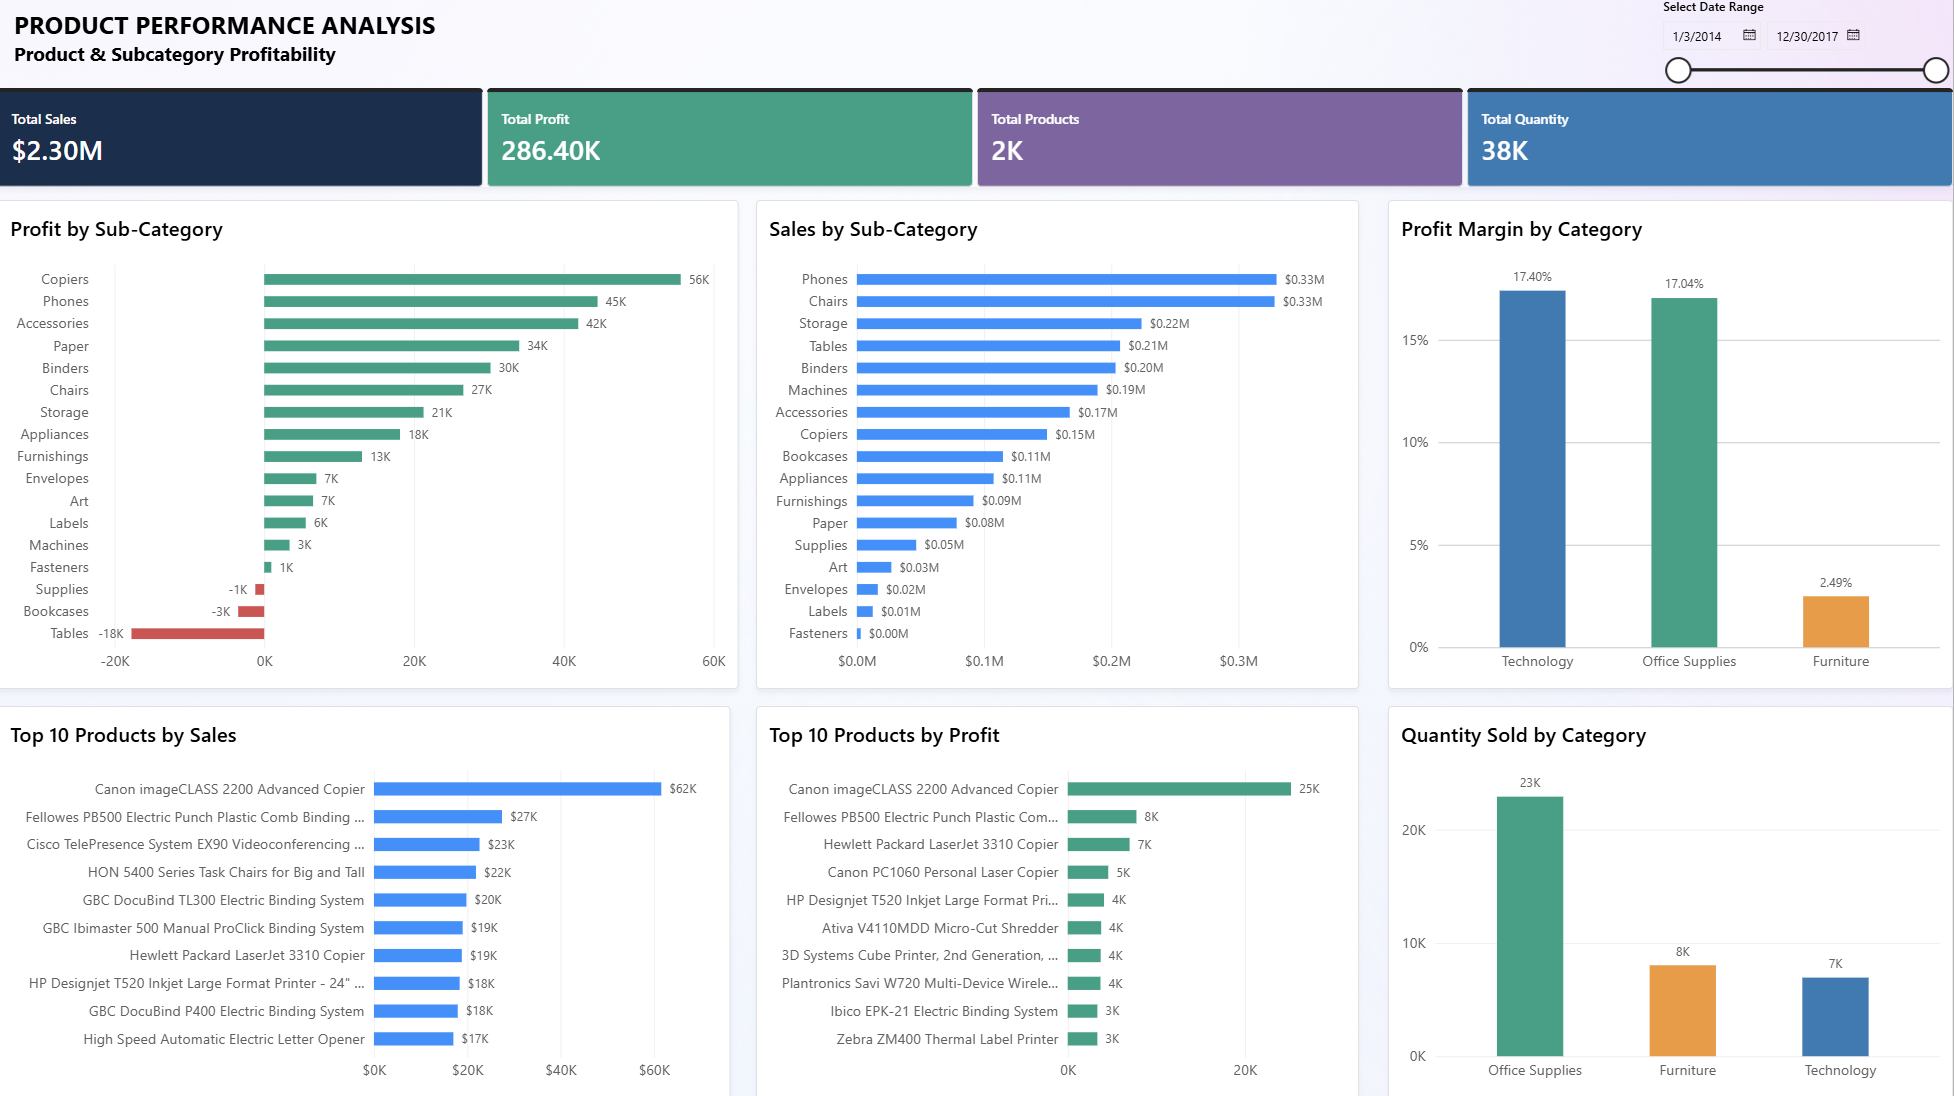

What the dashboard file says about the page in this screenshot:
{"tool":"powerbi","page":{"name":"Page 2","canvas":[1920,1080],"ordinal":1},"visuals":[{"type":"textbox","box":[16.7,9.8,678.3,70.7],"z":0},{"type":"clusteredBarChart","title":"Profit by Sub-Category","fields":{"Category":["stg_superstore.sub_category"],"Y":["stg_superstore.Total Profit"]},"box":[0,198.3,728.3,480],"z":1000},{"type":"clusteredBarChart","title":"Sales by Sub-Category","fields":{"Category":["stg_superstore.sub_category"],"Y":["stg_superstore.Total Sales"]},"box":[745,198.3,591.9,480],"z":2000},{"type":"clusteredColumnChart","title":"Profit Margin by Category","fields":{"Category":["stg_superstore.category"],"Y":["stg_superstore.Profit Margin (%)"]},"box":[1365.4,198.3,554.6,480],"z":3000},{"type":"clusteredBarChart","title":"Top 10 Products by Sales","fields":{"Category":["stg_superstore.product_name"],"Y":["stg_superstore.Total Sales"]},"box":[0,695,719.5,384.8],"z":4000},{"type":"clusteredBarChart","title":"Top 10 Products by Profit","fields":{"Category":["stg_superstore.product_name"],"Y":["stg_superstore.Total Profit"]},"box":[745,695,591.9,384.8],"z":5000},{"type":"clusteredColumnChart","title":"Quantity Sold by Category","fields":{"Category":["stg_superstore.category"],"Y":["stg_superstore.Total Quantity"]},"box":[1365.4,695,554.6,384.8],"z":6000},{"type":"slicer","fields":{"Values":["stg_superstore.order_date"]},"box":[1627.5,0,292.5,88.3],"z":7000},{"type":"cardVisual","fields":{"Data":["stg_superstore.Total Sales","stg_superstore.Total Profit","stg_superstore.Total Products","stg_superstore.Total Quantity"]},"box":[0,88.3,1920,97.2],"z":8000}]}

Visuals, with their boxes in screenshot pixels (x1, y1, x2, y2), scaled from the page's 1920x1080 canvas onto the 1954x1096 screenshot:
textbox: [17,10,707,82]
"Profit by Sub-Category" clusteredBarChart: [0,201,741,688]
"Sales by Sub-Category" clusteredBarChart: [758,201,1361,688]
"Profit Margin by Category" clusteredColumnChart: [1390,201,1953,688]
"Top 10 Products by Sales" clusteredBarChart: [0,705,732,1095]
"Top 10 Products by Profit" clusteredBarChart: [758,705,1361,1095]
"Quantity Sold by Category" clusteredColumnChart: [1390,705,1953,1095]
slicer - stg_superstore.order_date: [1656,0,1953,90]
cardVisual - stg_superstore.Total Sales x stg_superstore.Total Profit: [0,90,1953,188]
